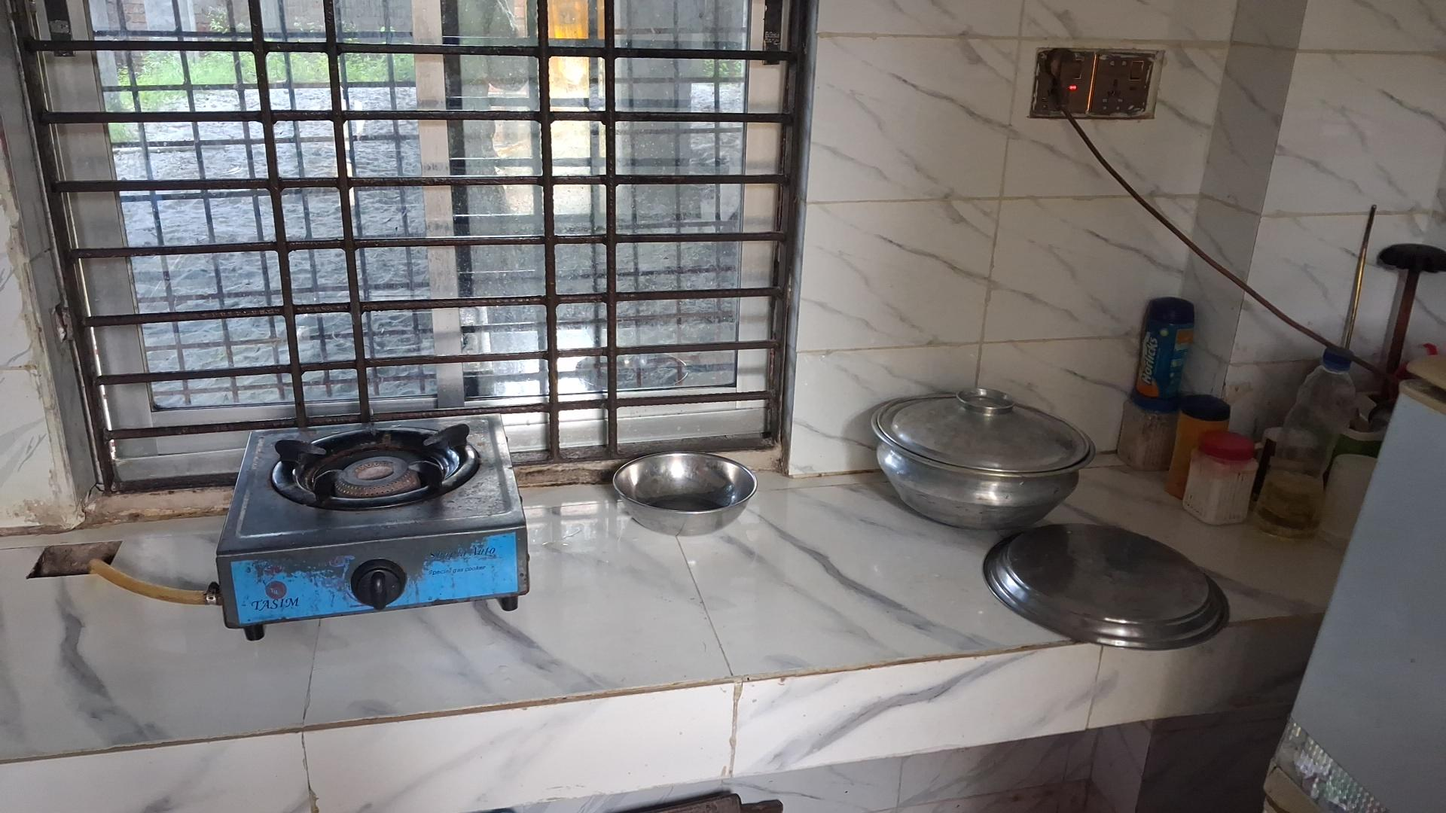Bottle: (1251, 347, 1360, 542)
Bowl: (611, 451, 758, 536)
Jar: (1127, 296, 1202, 404), (1183, 431, 1252, 514), (1119, 392, 1178, 482)
Plate: (979, 526, 1227, 645)
Pot: (866, 392, 1092, 524)
Window: (8, 5, 797, 457)
